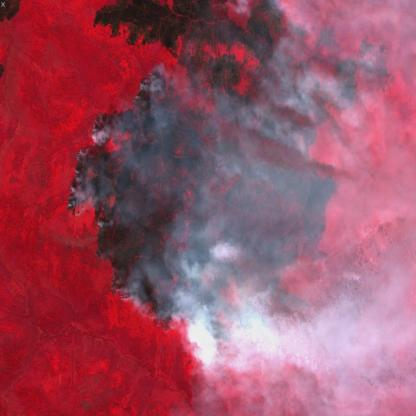fire: (62, 52, 272, 354)
